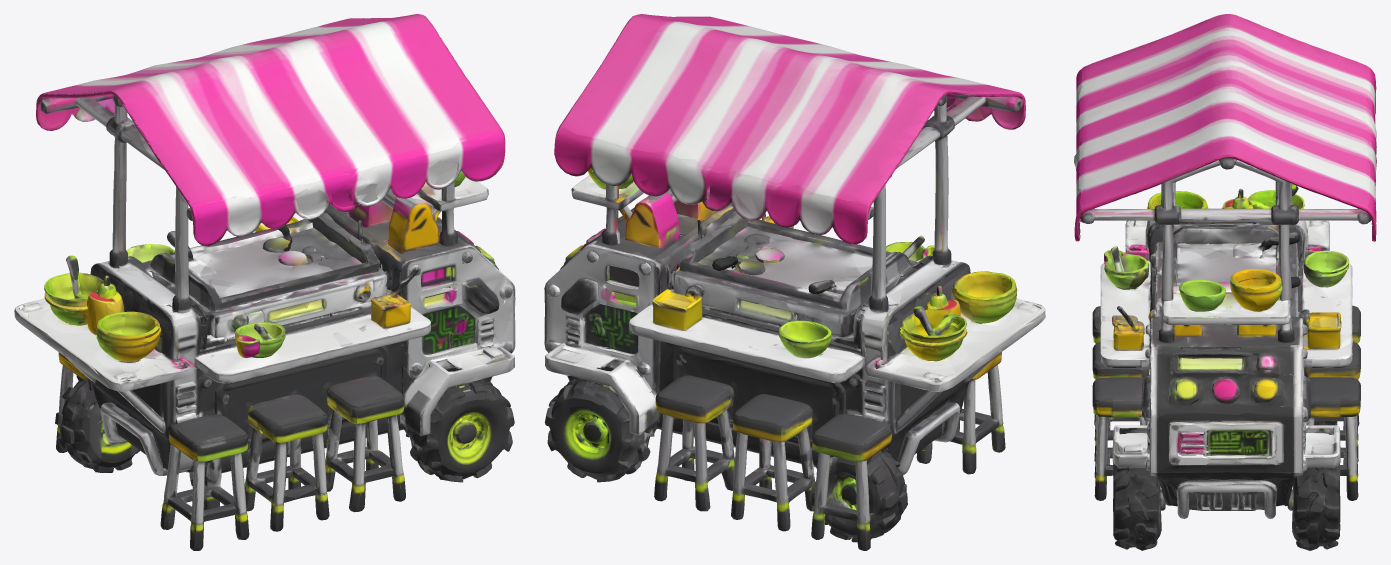
File: u_prp_food_cart.glb
The picture shows the model from 3 angles, left to right: view 1: azimuth 30°, elevation 25°; view 2: azimuth 150°, elevation 25°; view 3: azimuth 270°, elevation 25°; orthographic projection. The views are drawn at different scales.
Visible parts, largest first — view 1: geometry_0; view 2: geometry_0; view 3: geometry_0.
Boxes of the visible parts, x1,y1,x2,y2 form: geometry_0: (14, 14, 515, 550); geometry_0: (544, 14, 1045, 550); geometry_0: (1074, 14, 1376, 550).
Bounding box in the file's own units: 2.5 × 2.44 × 1.68.
1 material, 1 textured.
